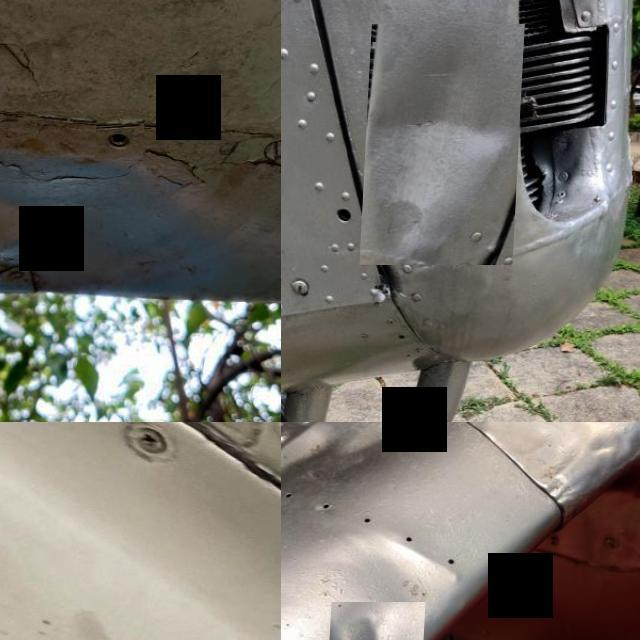Crack: (0, 578, 57, 640)
Dent: (362, 24, 526, 265), (281, 422, 457, 513), (0, 96, 64, 310), (328, 601, 429, 640)
Missing_Fastener: (312, 188, 366, 235), (98, 113, 148, 161)
